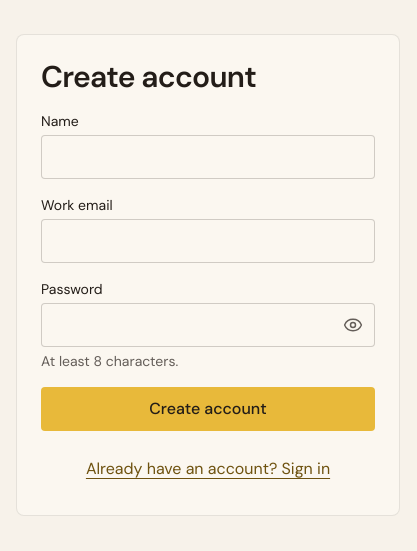
SignUpPage › a rejected sign-up clears the button and shows the server's message
Type "Van" into the field labelled "Name" at (208, 157), box [41,135,375,179]
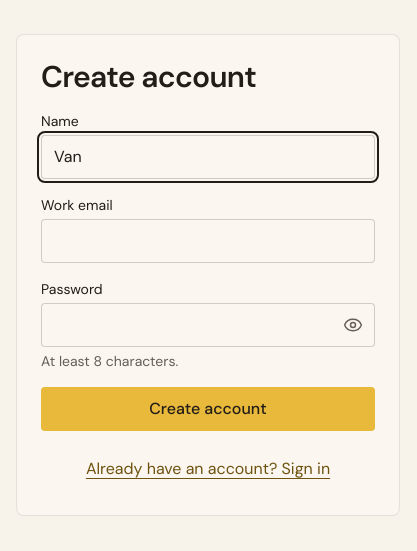
Type "van@example.com" into the field labelled "Work email" at (208, 241), box [41,219,375,263]
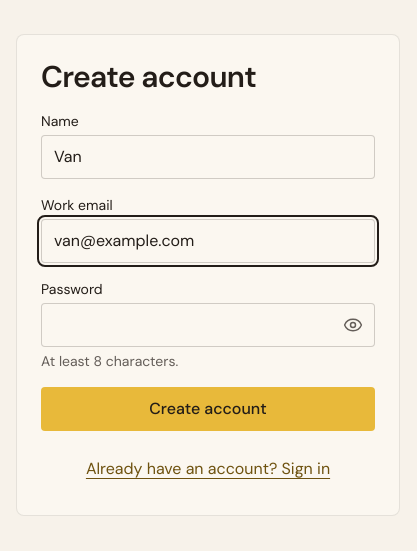
Type "correct-horse" into the password field labelled "Password" at (208, 325), box [41,303,375,347]
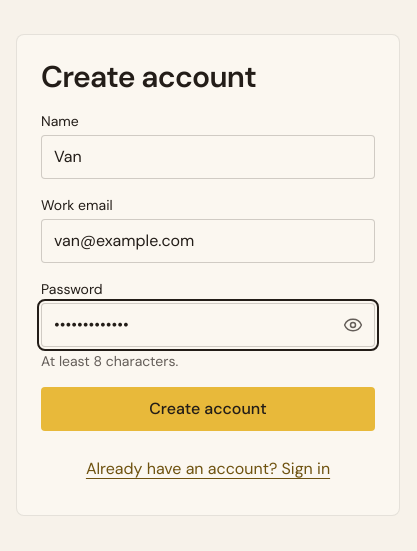
Click the button "Create account" at (208, 409), box [41,387,375,431]
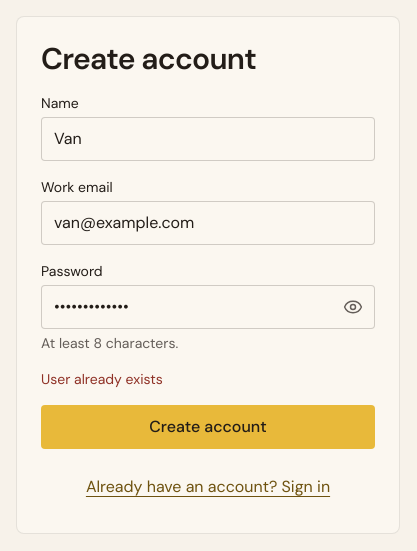
Expected: the button "Create account" is enabled, [41,405,375,449]
Result: the message reads "User already exists" at [41,370,163,388]
